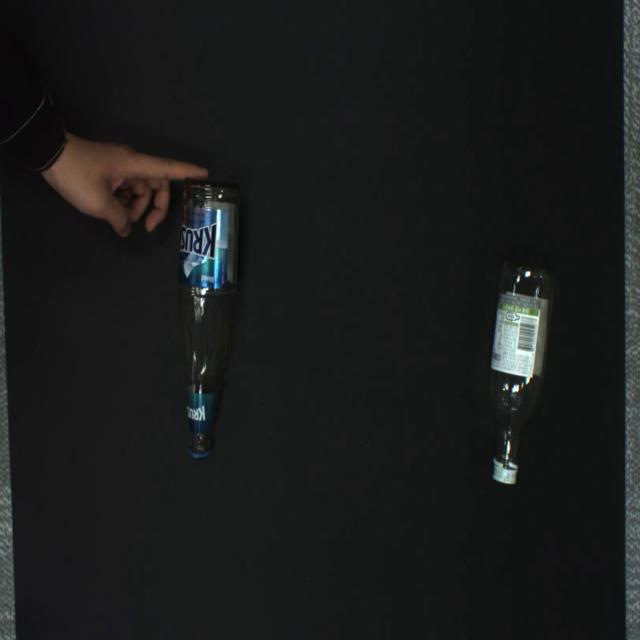beer-bottle: (179, 179, 240, 458)
soju-bottle: (489, 262, 553, 483)
